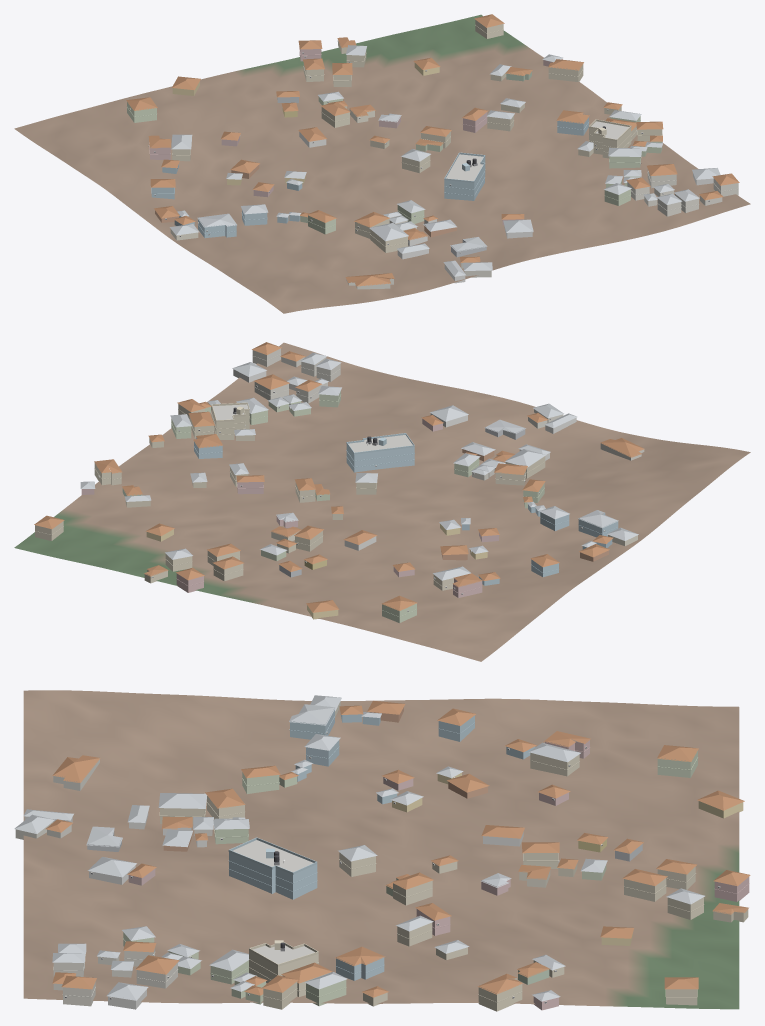
The picture shows the model from 3 angles, top to bottom: view 1: azimuth 30°, elevation 25°; view 2: azimuth 150°, elevation 25°; view 3: azimuth 270°, elevation 25°; orthographic projection. The views are drawn at different scales.
Visible parts, largest first — view 1: Terrain-col, Buildings-col, Details; view 2: Terrain-col, Buildings-col, Details; view 3: Terrain-col, Buildings-col, Details.
Part boxes in pixels (x1,y1,x2,y2): Terrain-col: (14,14,750,313); Buildings-col: (126,14,739,289); Details: (127,25,738,253); Terrain-col: (14,342,750,661); Buildings-col: (34,342,644,622); Details: (35,354,617,617); Terrain-col: (23,690,739,1009); Buildings-col: (14,695,750,1011); Details: (53,716,749,1003).
Bounding box in the file's own units: 262 × 16.25 × 264.
